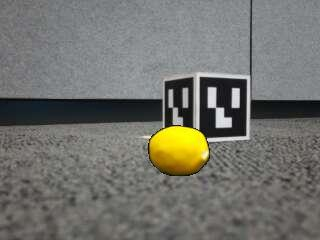lemon: (149, 126, 209, 175)
